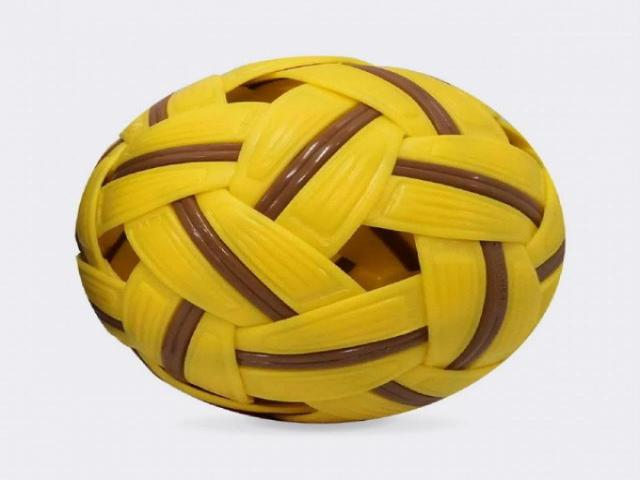round ball: (78, 57, 564, 421)
